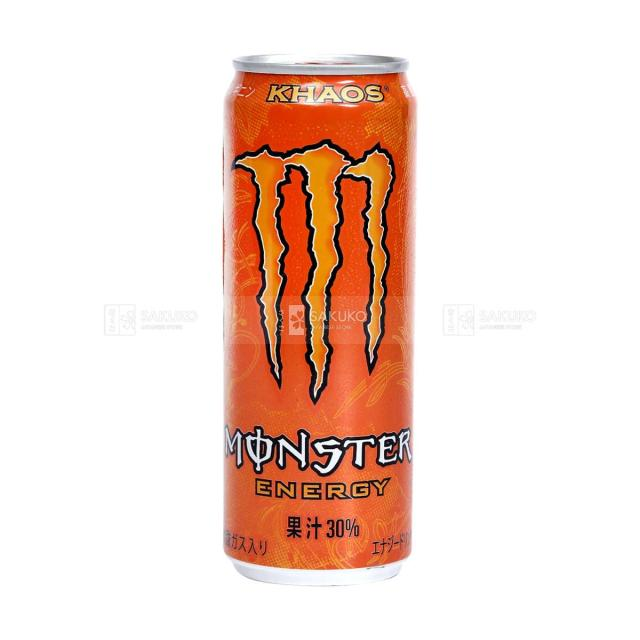Cans: (209, 40, 425, 593)
